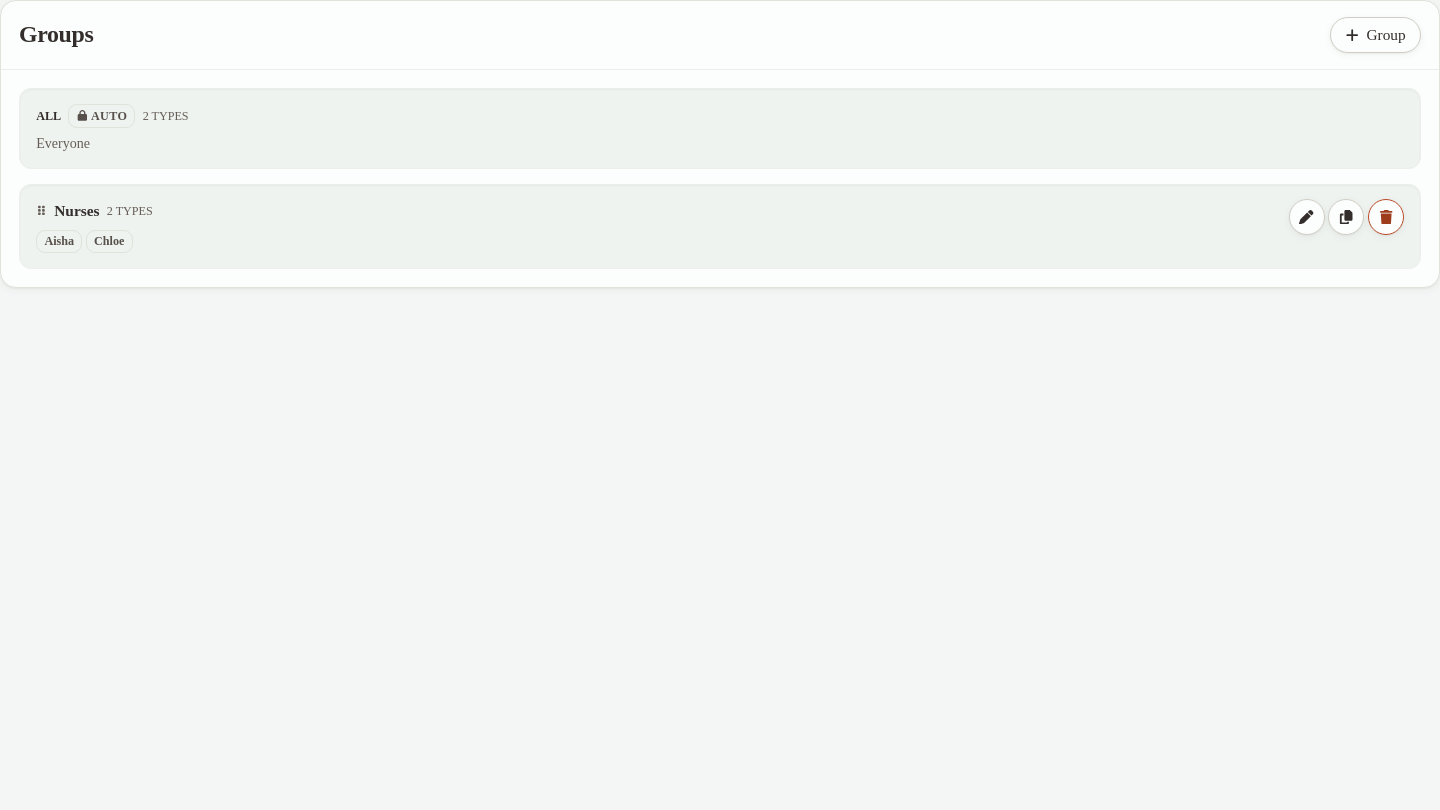
Test: GroupsSection parameterization — copy + flags › Shift config hides the member search, uses IN GROUP pane, and 'N TYPES' count
Expected: the text "2 TYPES" next to "Nurses" is shown, x1=107 y1=204 x2=153 y2=218
Step 1. Click the button with test id "add-group-toggle" → (1375, 35), box x1=1330 y1=17 x2=1421 y2=53
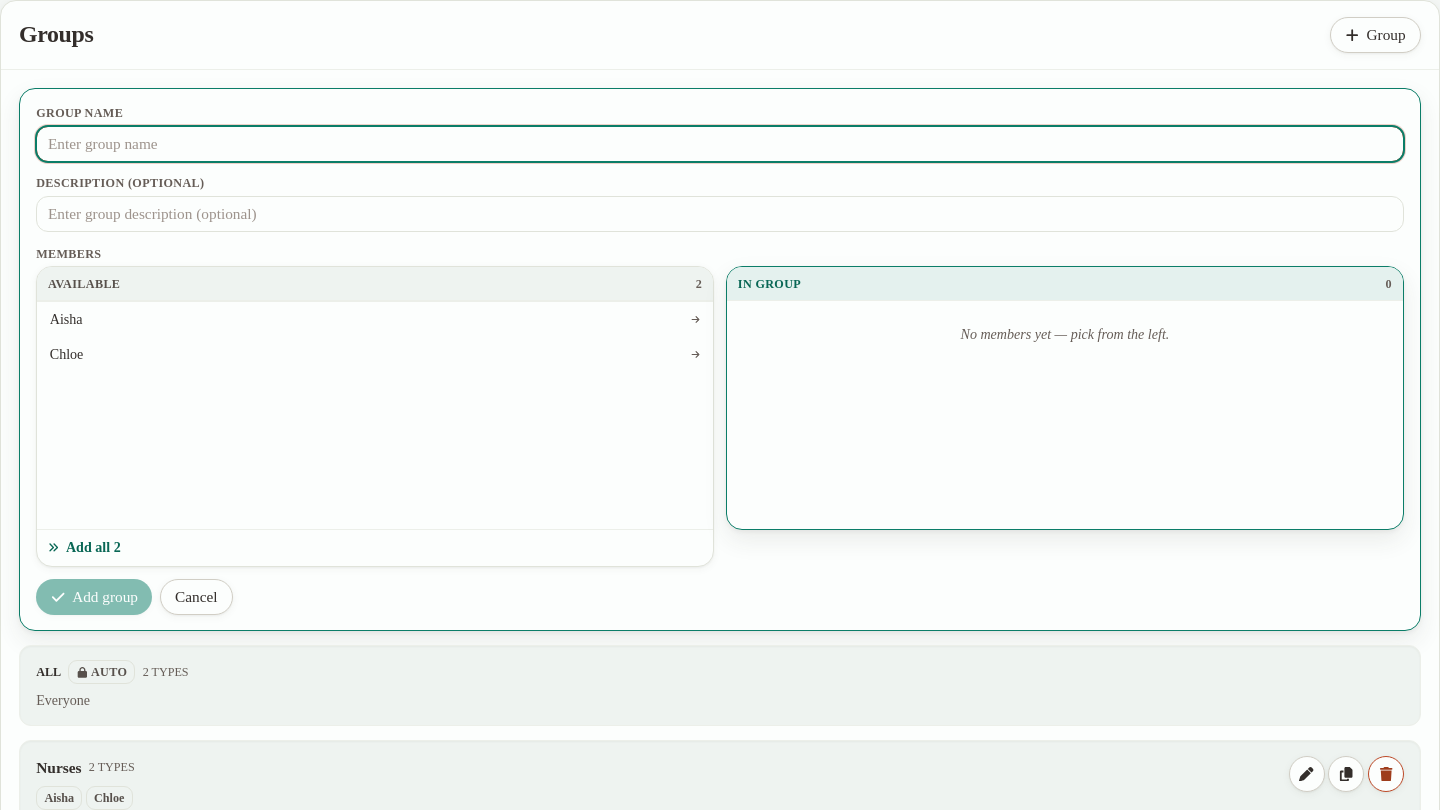
Now the text "IN GROUP" is shown, box x1=738 y1=275 x2=801 y2=293
